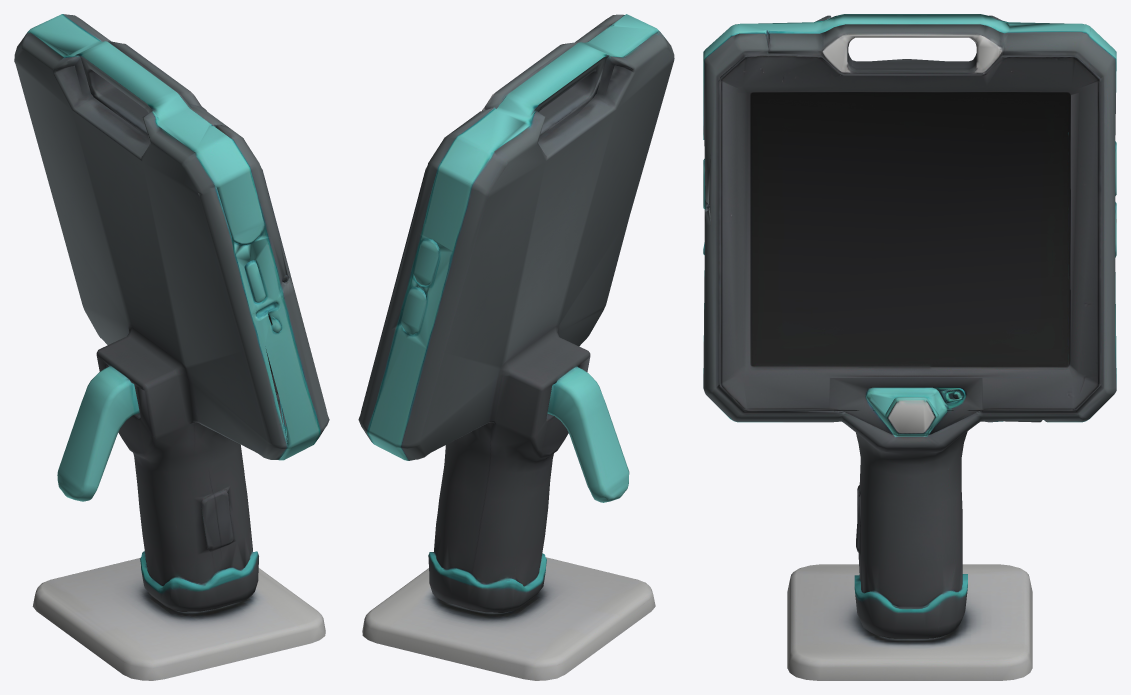
3 renders of one model, left to right at view 1: azimuth 30°, elevation 25°; view 2: azimuth 150°, elevation 25°; view 3: azimuth 270°, elevation 25°, orthographic. The views are drawn at different scales.
Visible parts, largest first — view 1: tripo_node_65a19d67-cba5-4c97-903e-a558dd0f90a6; view 2: tripo_node_65a19d67-cba5-4c97-903e-a558dd0f90a6; view 3: tripo_node_65a19d67-cba5-4c97-903e-a558dd0f90a6.
Part boxes in pixels (<box>): tripo_node_65a19d67-cba5-4c97-903e-a558dd0f90a6: <box>14,14,329,680</box>; tripo_node_65a19d67-cba5-4c97-903e-a558dd0f90a6: <box>358,14,674,680</box>; tripo_node_65a19d67-cba5-4c97-903e-a558dd0f90a6: <box>703,14,1116,680</box>.
Bounding box in the file's own units: 0.3965 × 0.998 × 0.6348.
Materials: 1 (1 with a texture image).
